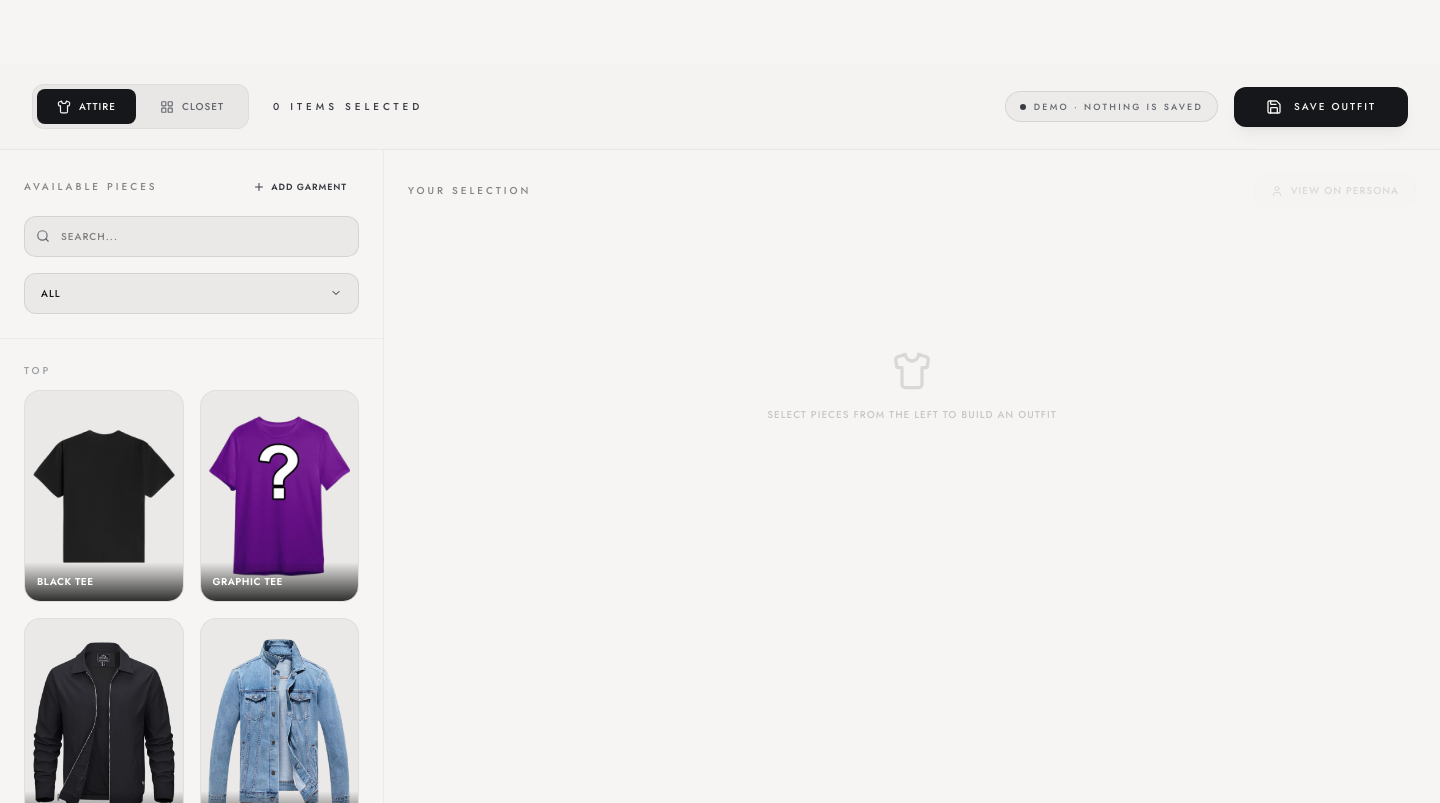
DemoPage › View on Persona is off until something is selected, then shows the persona clip with a sign-up button
Expected: the button "View on Persona" is disabled, [1254, 174, 1416, 207]
Click the element showing "Black Tee" at (104, 496), box [24, 390, 184, 602]
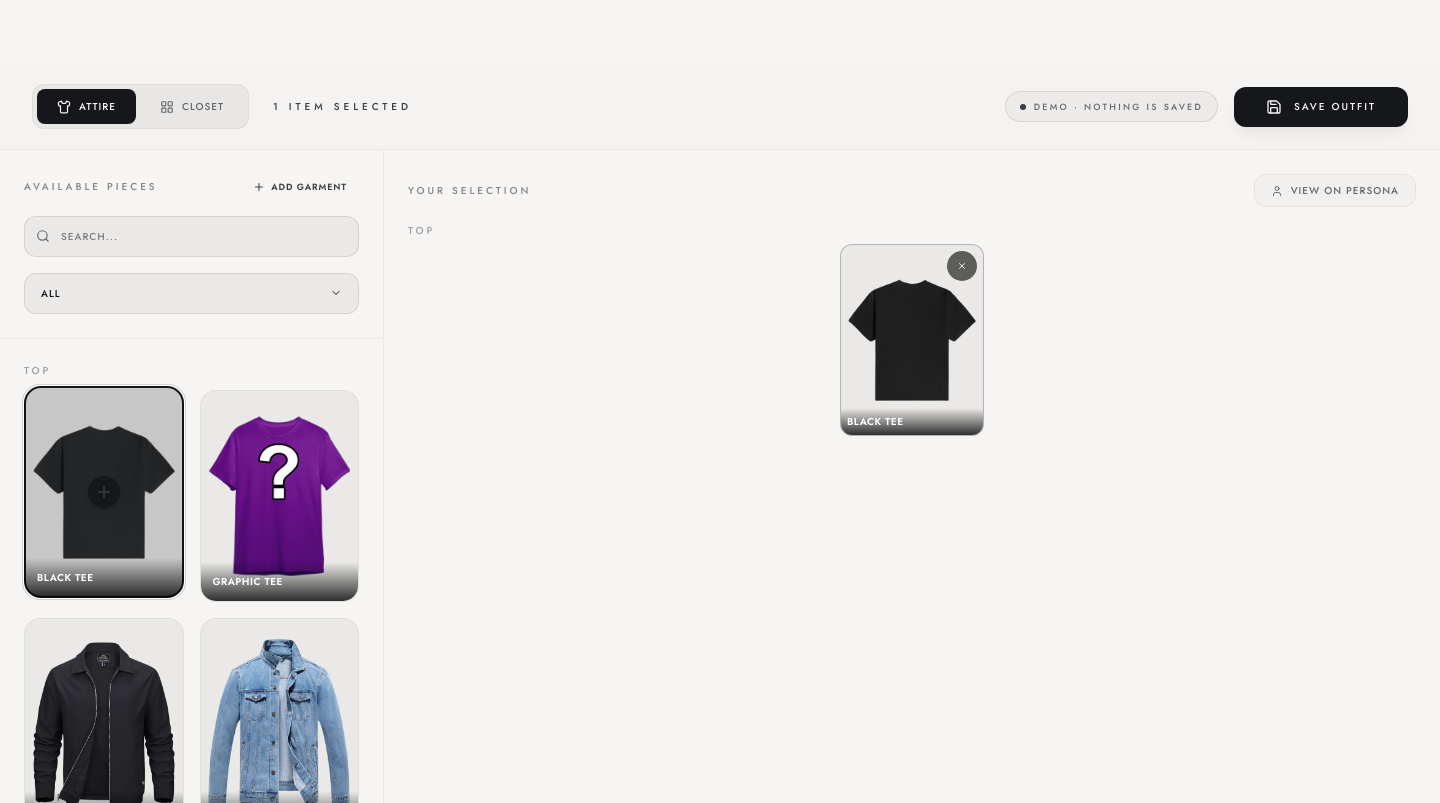
Now the button "View on Persona" is enabled
Click the button "View on Persona" at (1335, 190), box [1254, 174, 1416, 207]
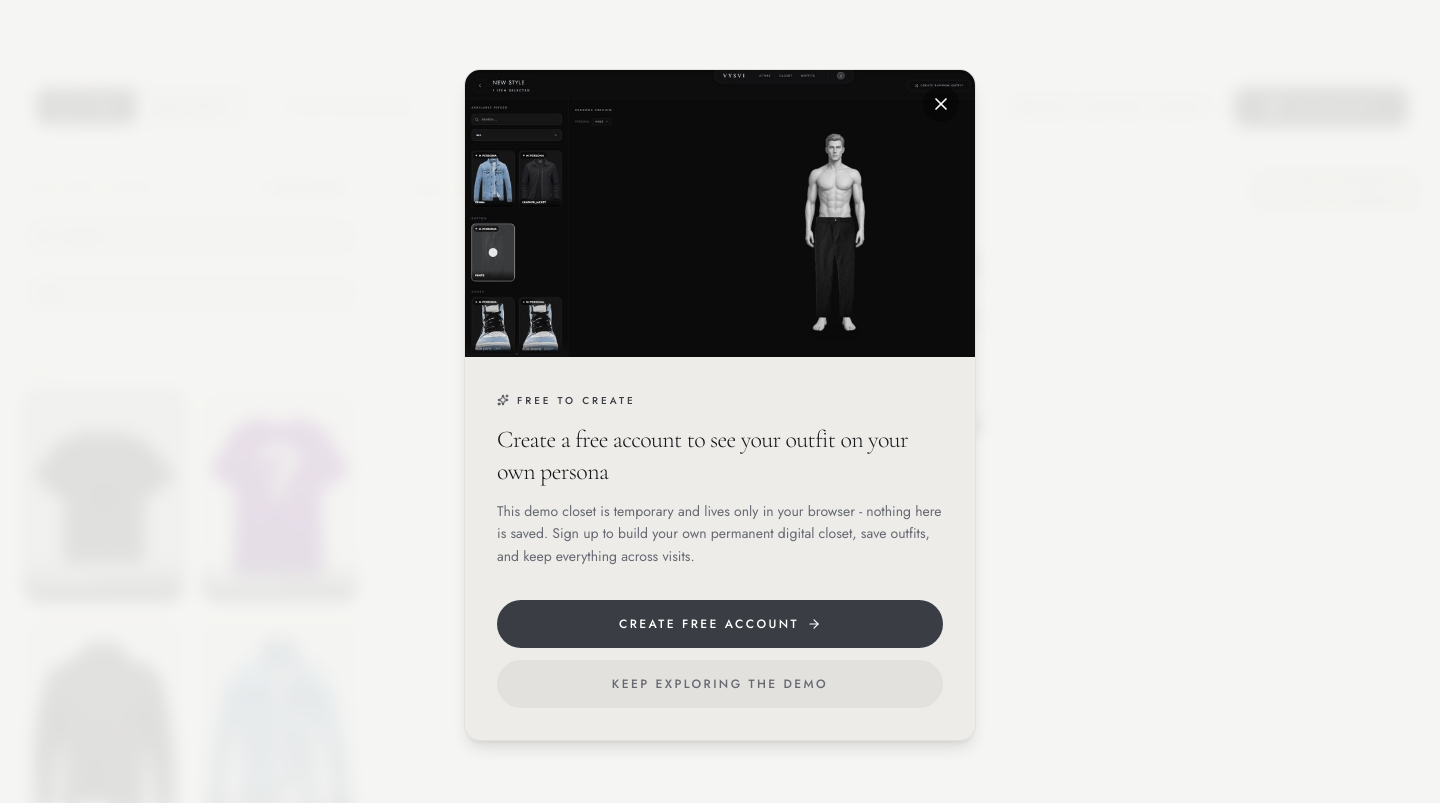
Now the heading "Create a free account to see your outfit on your own persona" is shown, box [497, 424, 943, 488]
